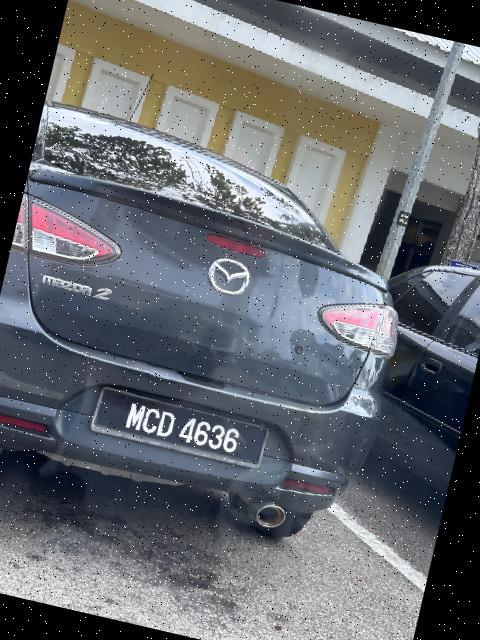License_Plate: (85, 382, 276, 482)
MCD4636: (85, 382, 276, 482)
car: (1, 88, 442, 572)
